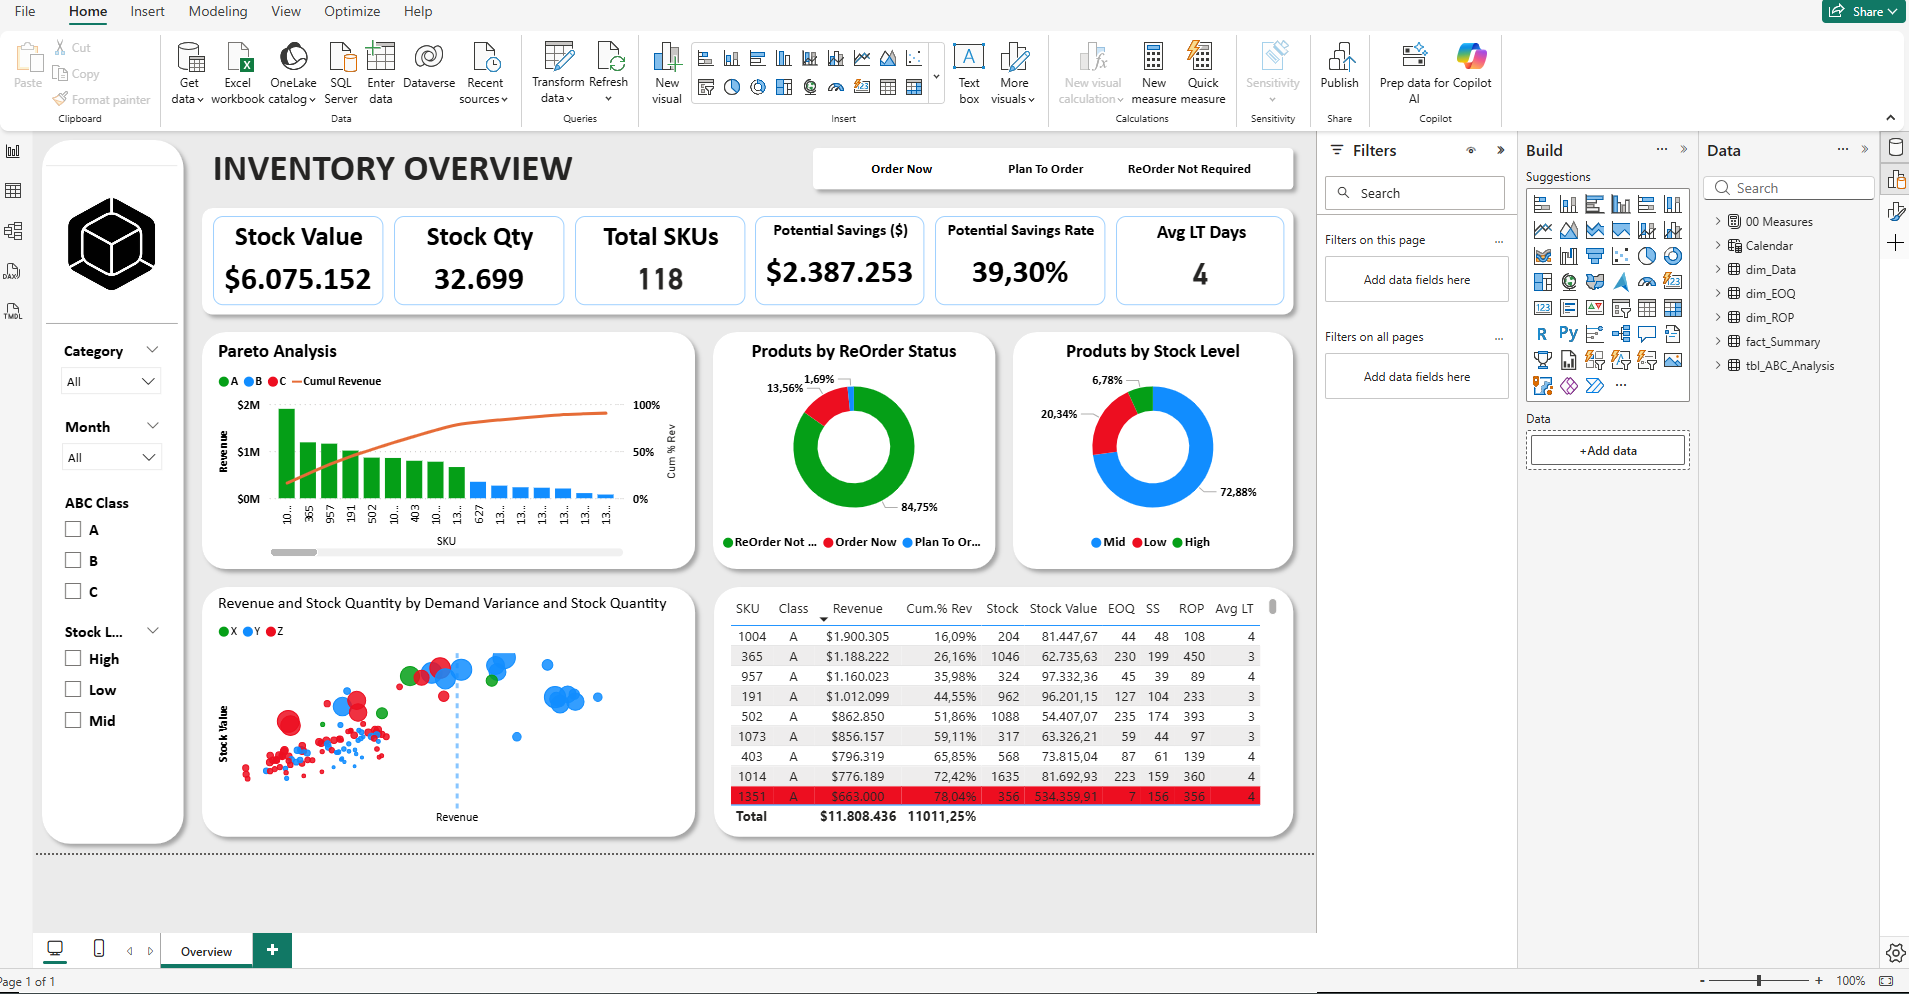

Layout of this report page (visuals, bound fields, positions):
{"tool":"powerbi","page":{"name":"Overview","canvas":[1280,720],"ordinal":0},"visuals":[{"type":"shape","box":[0,0,159.1,720.1],"z":0},{"type":"slicer","fields":{"Values":["fact_Summary.ABC Class"]},"box":[18.6,356.4,119.6,125.4],"z":1000},{"type":"slicer","fields":{"Values":["fact_Summary.Stock Level"]},"box":[18.6,484.6,119.6,133.6],"z":2000},{"type":"slicer","fields":{"Values":["fact_Summary.Category_Name"]},"box":[18.4,204.7,120,73.2],"z":3000},{"type":"textbox","box":[163.8,8.1,391.4,59.2],"z":4000},{"type":"slicer","fields":{"Values":["Calendar.Month Name"]},"box":[18.6,280.5,119.6,73.2],"z":5000},{"type":"shape","box":[159.1,67.4,1106.9,124.3],"z":6000},{"type":"shape","box":[159.1,191.7,509.9,254.4],"z":7000},{"type":"shape","box":[159.1,446,509.9,267.2],"z":8000},{"type":"shape","box":[670.2,446,595.9,267.2],"z":9000},{"type":"shape","box":[669,191.7,299.7,254.4],"z":10000},{"type":"shape","box":[968.7,191.7,297.4,254.4],"z":11000},{"type":"donutChart","title":"Produts by ReOrder Status","fields":{"Category":["fact_Summary.ReOrder Status"],"Y":["CountNonNull(fact_Summary.Product ID)"]},"box":[678.3,207.9,281.1,221.9],"z":12000},{"type":"shape","box":[768.9,8.1,497.1,59.2],"z":13000},{"type":"slicer","fields":{"Values":["fact_Summary.ReOrder Status"]},"box":[770.1,17.4,478.5,40.7],"z":14000},{"type":"card","title":"Potential Savings Rate","fields":{"Values":["00  Measures.Potential saving"]},"box":[900.1,84.8,169.6,89.4],"z":15000},{"type":"card","title":"Stock Qty","fields":{"Values":["Sum(fact_Summary.Current Inventory)"]},"box":[360.2,84.8,169.6,89.4],"z":16000},{"type":"card","title":"Stock Value","fields":{"Values":["Sum(fact_Summary.Current Inventory Value)"]},"box":[180,84.8,169.6,89.4],"z":17000},{"type":"card","title":"Total SKUs","fields":{"Values":["CountNonNull(fact_Summary.Product ID)"]},"box":[540.3,84.8,169.6,89.4],"z":18000},{"type":"card","title":"Avg LT Days","fields":{"Values":["00  Measures.Avg Lead Time"]},"box":[1080.2,84.8,168.4,89.4],"z":19000},{"type":"donutChart","title":"Produts by Stock Level","fields":{"Category":["fact_Summary.Stock Level"],"Y":["CountNonNull(fact_Summary.Product ID)"]},"box":[976.8,207.9,281.1,221.9],"z":20000},{"type":"tableEx","fields":{"Values":["fact_Summary.Product ID","fact_Summary.ABC Class","Sum(tbl_ABC_Analysis.Sales_Value)","Sum(tbl_ABC_Analysis.%_Cum_Sales)","fact_Summary.Current Inventory","fact_Summary.Current Inventory Value","fact_Summary.EOQ","fact_Summary.Safety Stock","fact_Summary.ROP","fact_Summary.Avg_LT"]},"box":[689.9,461.1,556.4,235.8],"z":21000},{"type":"lineStackedColumnComboChart","title":"Pareto Analysis","fields":{"Y":["Sum(tbl_ABC_Analysis.Sales_Value)"],"Y2":["Sum(tbl_ABC_Analysis.%_Cum_Sales)"],"Series":["tbl_ABC_Analysis.ABC_Class"],"Category":["tbl_ABC_Analysis.Product ID"]},"box":[180,207.9,468.1,221.9],"z":22000},{"type":"scatterChart","title":"Revenue and Stock Quantity by Demand Variability and Stock Quantity","fields":{"X":["Sum(tbl_ABC_Analysis.Sales_Value)"],"Y":["fact_Summary.Current Inventory Value"],"Series":["fact_Summary.XYZ Class"],"Size":["Sum(fact_Summary.Current Inventory)"]},"box":[180,461.1,468.1,235.8],"z":23000},{"type":"card","title":"Potential Savings ($)","fields":{"Values":["00  Measures.Potential Savings ($)"]},"box":[720.5,84.8,169,89.4],"z":24000},{"type":"image","box":[12.8,33.7,131.3,158],"z":25000}]}

Visuals, with their boxes on the page's 1280x720 design canvas (x1, y1, x2, y2). These are canvas units, not pixel positions in the 1909x994 screenshot, which may show the page scaled, cropped or inside an application window:
shape: {"left": 0, "top": 0, "right": 159, "bottom": 720}
slicer - fact_Summary.ABC Class: {"left": 19, "top": 356, "right": 138, "bottom": 482}
slicer - fact_Summary.Stock Level: {"left": 19, "top": 485, "right": 138, "bottom": 618}
slicer - fact_Summary.Category_Name: {"left": 18, "top": 205, "right": 138, "bottom": 278}
textbox: {"left": 164, "top": 8, "right": 555, "bottom": 67}
slicer - Calendar.Month Name: {"left": 19, "top": 280, "right": 138, "bottom": 354}
shape: {"left": 159, "top": 67, "right": 1266, "bottom": 192}
shape: {"left": 159, "top": 192, "right": 669, "bottom": 446}
shape: {"left": 159, "top": 446, "right": 669, "bottom": 713}
shape: {"left": 670, "top": 446, "right": 1266, "bottom": 713}
shape: {"left": 669, "top": 192, "right": 969, "bottom": 446}
shape: {"left": 969, "top": 192, "right": 1266, "bottom": 446}
"Produts by ReOrder Status" donutChart: {"left": 678, "top": 208, "right": 959, "bottom": 430}
shape: {"left": 769, "top": 8, "right": 1266, "bottom": 67}
slicer - fact_Summary.ReOrder Status: {"left": 770, "top": 17, "right": 1249, "bottom": 58}
"Potential Savings Rate" card: {"left": 900, "top": 85, "right": 1070, "bottom": 174}
"Stock Qty" card: {"left": 360, "top": 85, "right": 530, "bottom": 174}
"Stock Value" card: {"left": 180, "top": 85, "right": 350, "bottom": 174}
"Total SKUs" card: {"left": 540, "top": 85, "right": 710, "bottom": 174}
"Avg LT Days" card: {"left": 1080, "top": 85, "right": 1249, "bottom": 174}
"Produts by Stock Level" donutChart: {"left": 977, "top": 208, "right": 1258, "bottom": 430}
tableEx - fact_Summary.Product ID x fact_Summary.ABC Class: {"left": 690, "top": 461, "right": 1246, "bottom": 697}
"Pareto Analysis" lineStackedColumnComboChart: {"left": 180, "top": 208, "right": 648, "bottom": 430}
"Revenue and Stock Quantity by Demand Variability and Stock Quantity" scatterChart: {"left": 180, "top": 461, "right": 648, "bottom": 697}
"Potential Savings ($)" card: {"left": 720, "top": 85, "right": 890, "bottom": 174}
image: {"left": 13, "top": 34, "right": 144, "bottom": 192}
